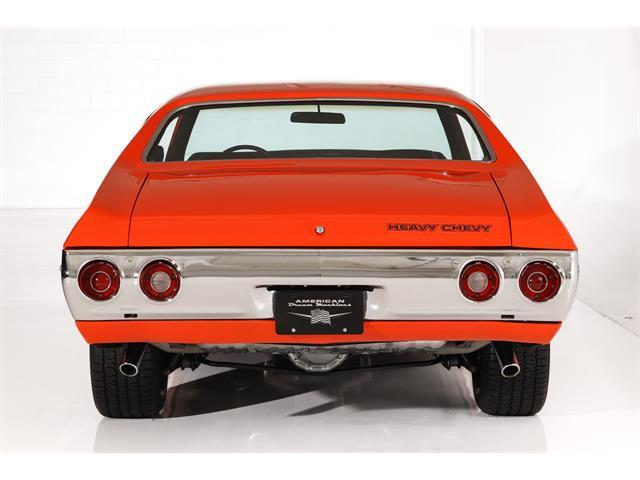chevelle-1972: (61, 85, 579, 418)
